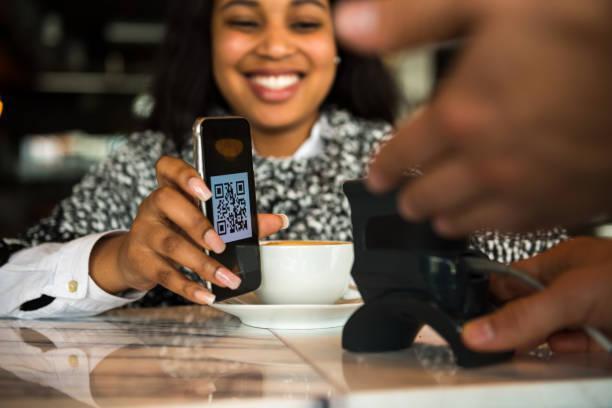Finder pattern: (210, 181, 226, 202), (215, 217, 228, 239), (235, 178, 247, 196)
